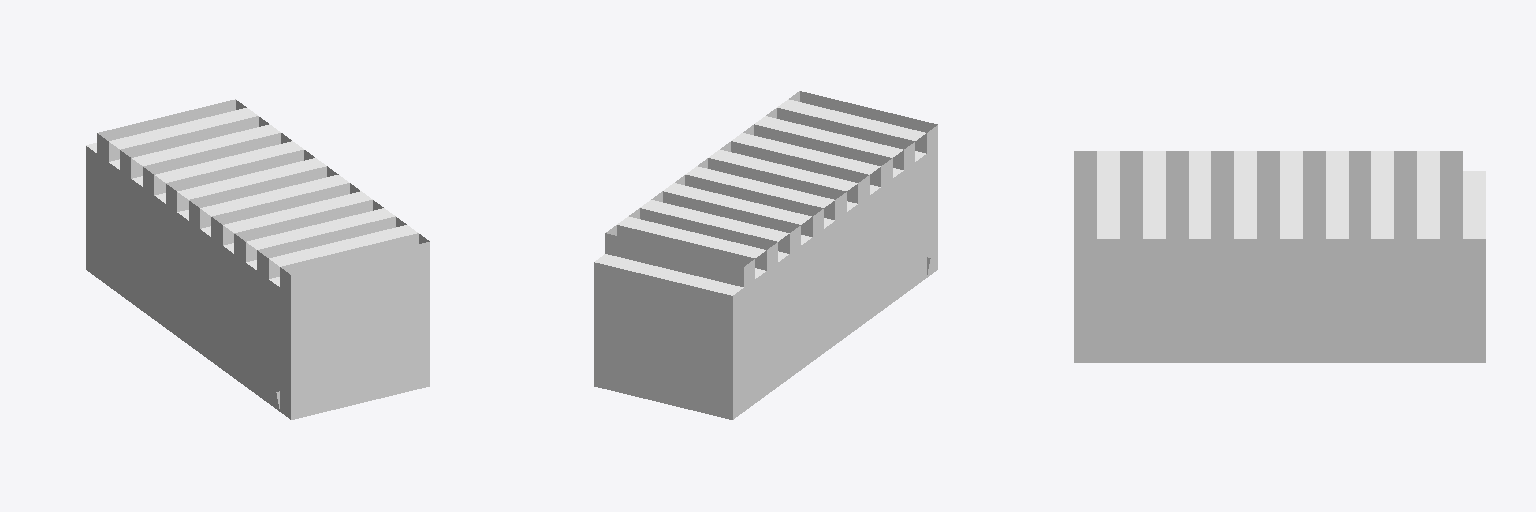
File: ciel_bande_orange_tri_less.obj
3 views of the same model, side by side, from view 1: azimuth 30°, elevation 25°; view 2: azimuth 150°, elevation 25°; view 3: azimuth 270°, elevation 25° (orthographic).
Parts seen in each view (by area): view 1: __RTX___Test_Map_2_0__223_0_-234_to_233_319_-213; view 2: __RTX___Test_Map_2_0__223_0_-234_to_233_319_-213; view 3: __RTX___Test_Map_2_0__223_0_-234_to_233_319_-213.
Part boxes in pixels (x1,y1,x2,y2): __RTX___Test_Map_2_0__223_0_-234_to_233_319_-213: (86,99,429,419); __RTX___Test_Map_2_0__223_0_-234_to_233_319_-213: (594,91,937,419); __RTX___Test_Map_2_0__223_0_-234_to_233_319_-213: (1074,151,1485,362).
Bounding box in the file's own units: 108 × 105 × 270.